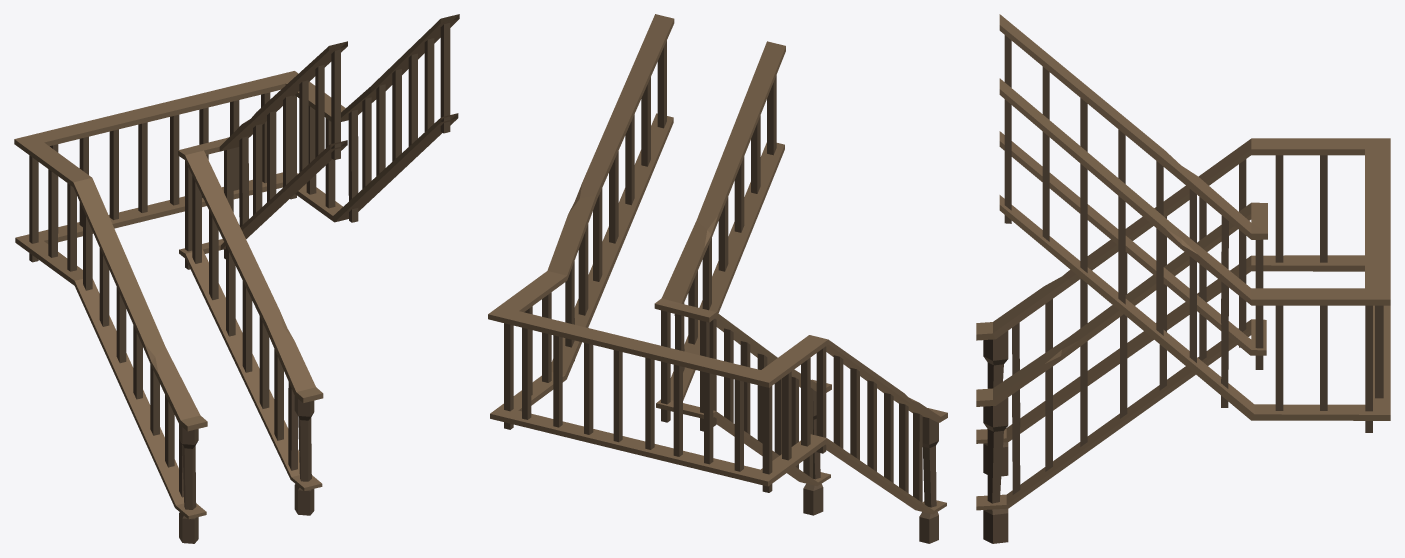
File: SM_Bld_House_Interior_StairsRail_03.fbx
3 views of the same model, side by side, from view 1: azimuth 30°, elevation 25°; view 2: azimuth 150°, elevation 25°; view 3: azimuth 270°, elevation 25° (orthographic). The views are drawn at different scales.
Parts seen in each view (by area): view 1: SM_Bld_House_Interior_StairsRail_03; view 2: SM_Bld_House_Interior_StairsRail_03; view 3: SM_Bld_House_Interior_StairsRail_03.
Part boxes in pixels (<box>): SM_Bld_House_Interior_StairsRail_03: <box>14,14,459,543</box>; SM_Bld_House_Interior_StairsRail_03: <box>488,14,947,543</box>; SM_Bld_House_Interior_StairsRail_03: <box>976,14,1390,543</box>.
Size of the model in its own units: 254 by 390 by 271.
